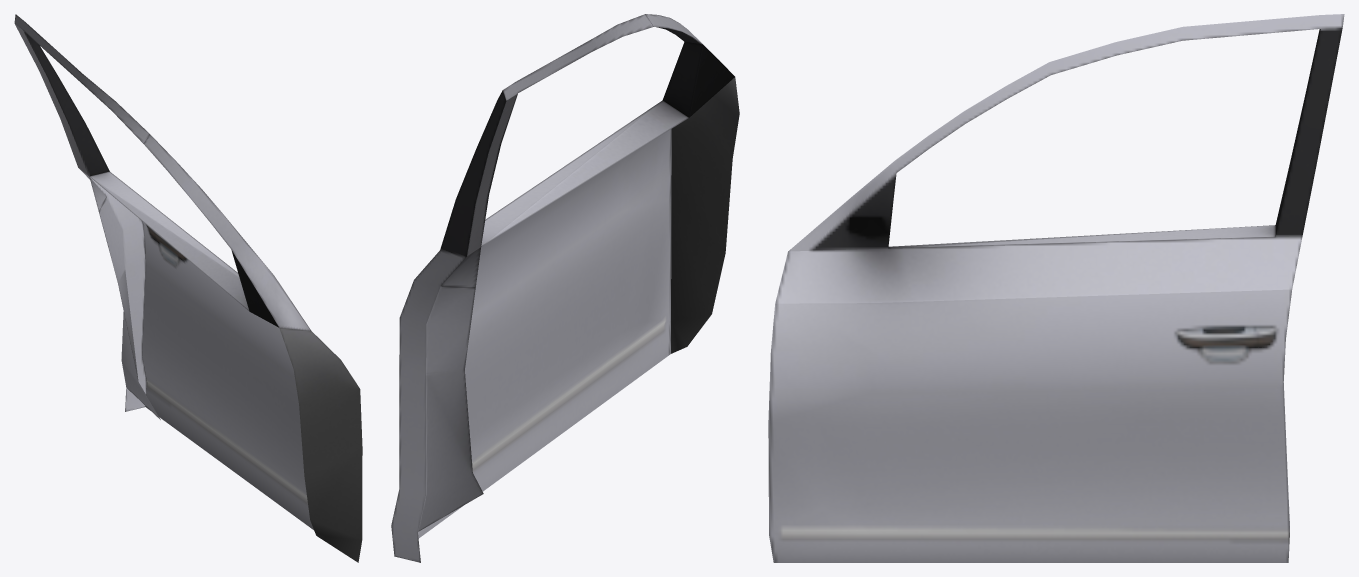
The model's file is waiqianchemen001.FBX.
3 views of the same model, side by side, from view 1: azimuth 30°, elevation 25°; view 2: azimuth 150°, elevation 25°; view 3: azimuth 270°, elevation 25° (orthographic). The views are drawn at different scales.
Parts seen in each view (by area): view 1: waiqianchemen001; view 2: waiqianchemen001; view 3: waiqianchemen001.
Boxes of the visible parts, bbox=[...] form: waiqianchemen001: bbox=[14, 14, 362, 562]; waiqianchemen001: bbox=[391, 14, 739, 562]; waiqianchemen001: bbox=[768, 14, 1344, 562].
Size of the model in its own units: 169 by 588 by 632.
